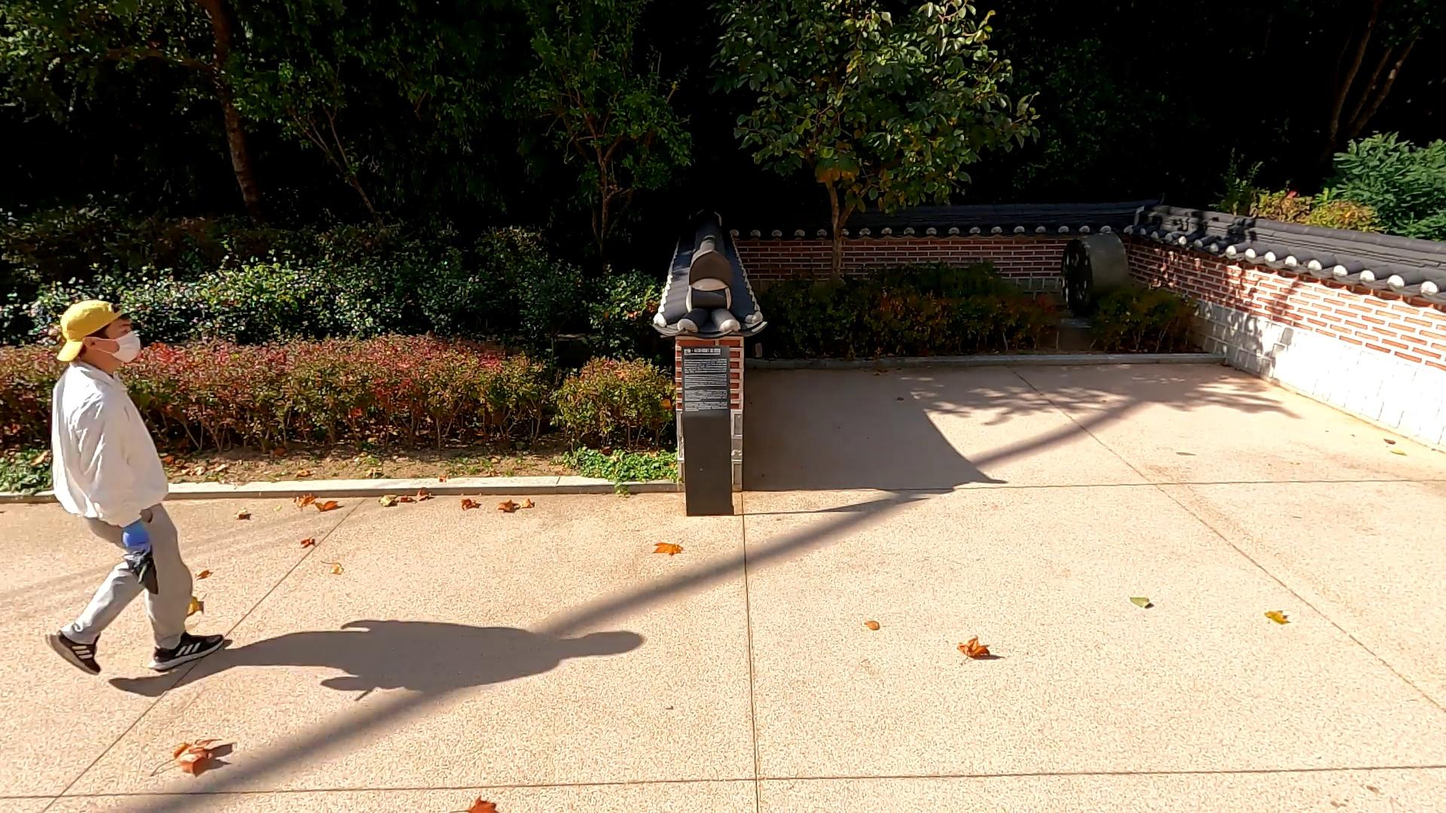person: (41, 299, 227, 684)
trash: (117, 547, 159, 596)
